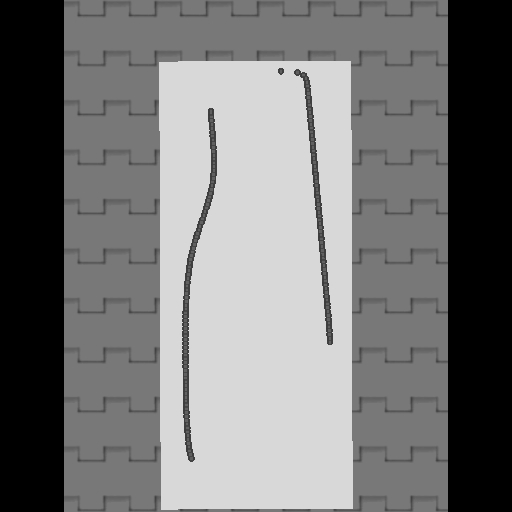Defect: (189, 344, 337, 486)
